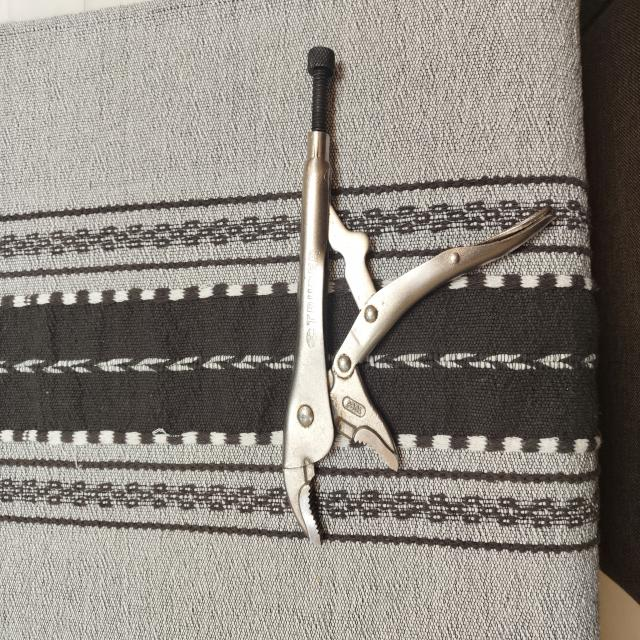PinzasPresion: (256, 23, 561, 585)
